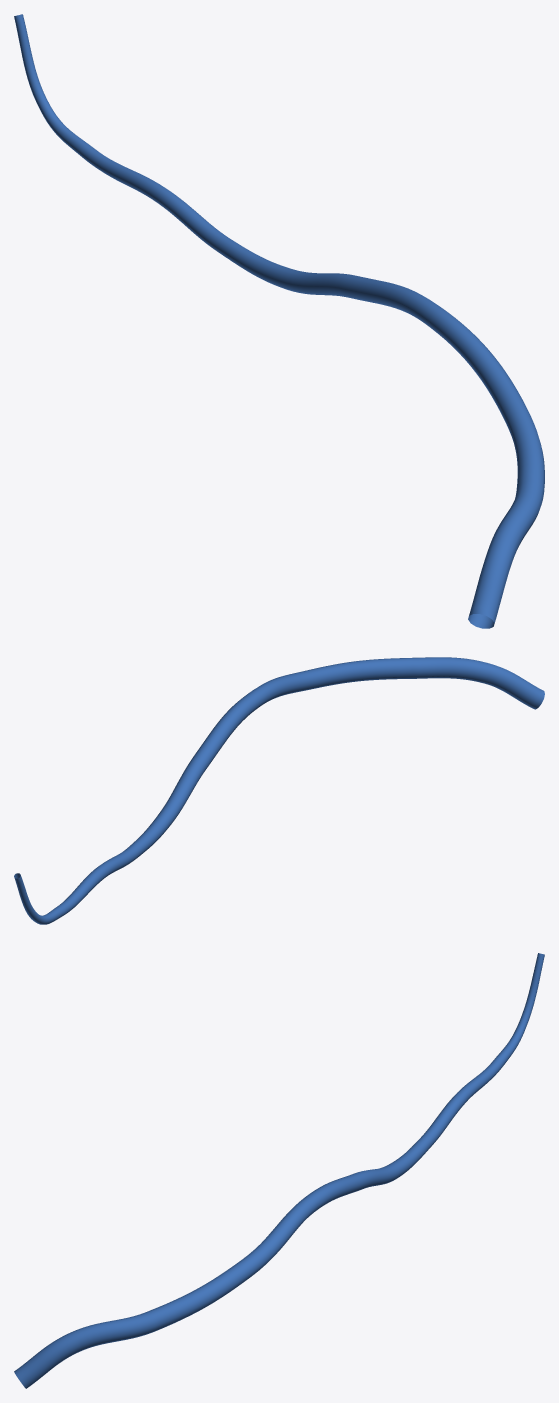
3 views of the same model, one above another, from view 1: azimuth 30°, elevation 25°; view 2: azimuth 150°, elevation 25°; view 3: azimuth 330°, elevation 25° (orthographic). The views are drawn at different scales.
Visible parts, largest first — view 1: 左侧股深静脉; view 2: 左侧股深静脉; view 3: 左侧股深静脉.
Boxes of the visible parts, bbox=[...] form: 左侧股深静脉: bbox=[14, 14, 544, 628]; 左侧股深静脉: bbox=[14, 657, 544, 924]; 左侧股深静脉: bbox=[14, 953, 544, 1388].
Bounding box in the file's own units: 0.0684 × 0.0616 × 0.3685.
